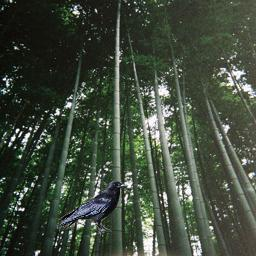Crow: (56, 179, 128, 234)
